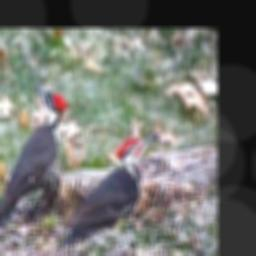Woodpecker: (0, 84, 69, 232), (60, 132, 159, 235)
